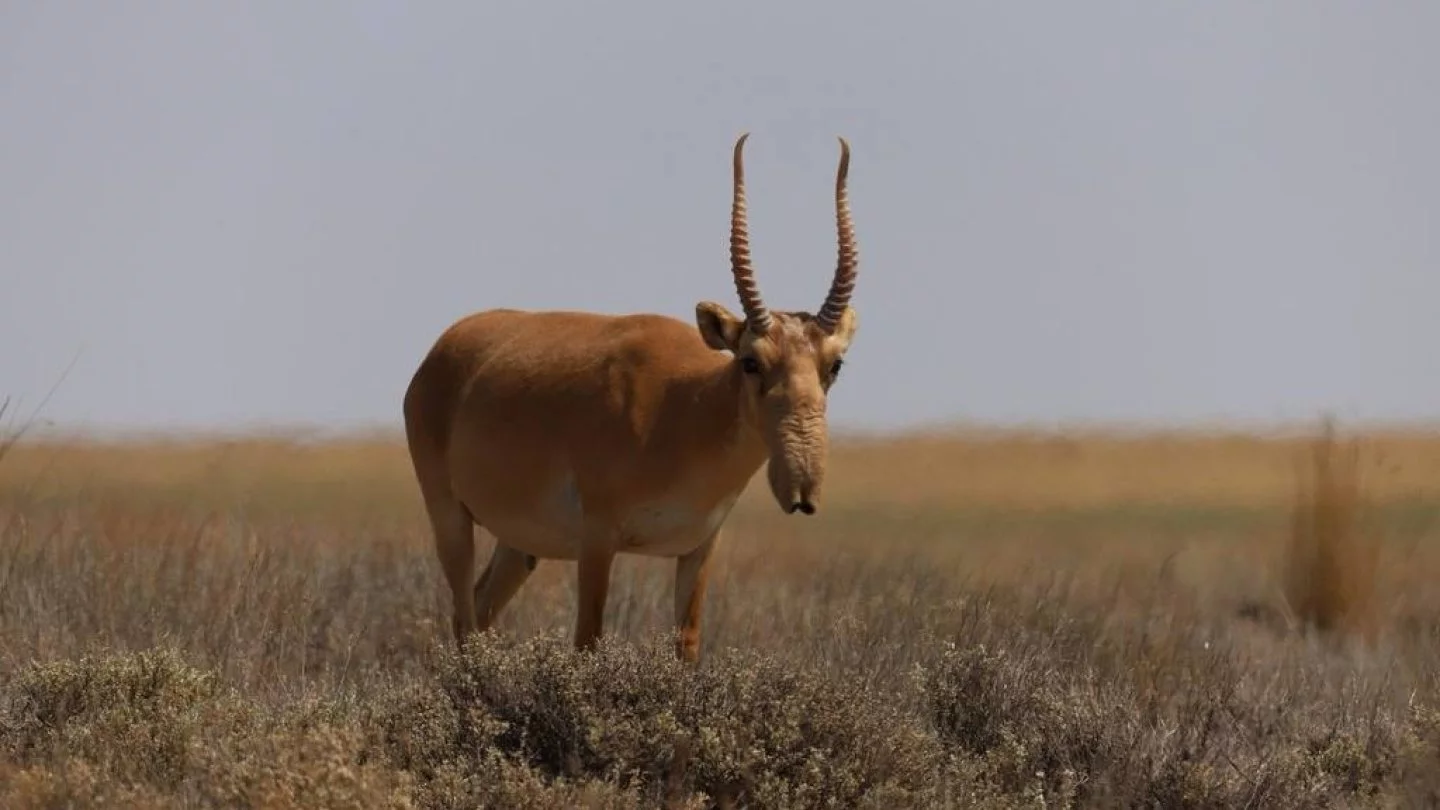saiga: (401, 134, 859, 673)
